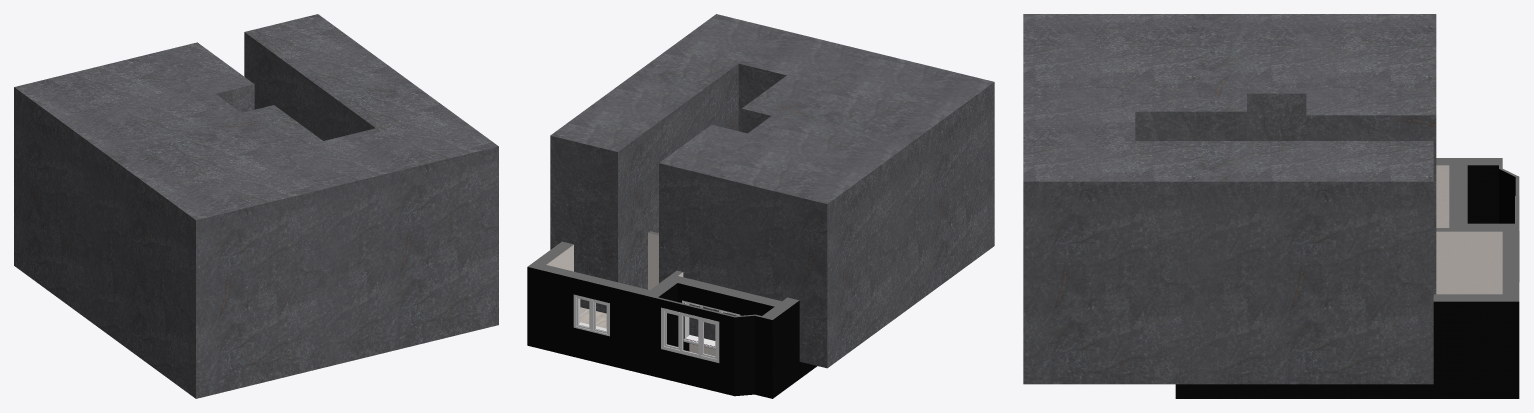
The model's file is Untitleddd.glb.
3 views of the same model, side by side, from view 1: azimuth 30°, elevation 25°; view 2: azimuth 150°, elevation 25°; view 3: azimuth 270°, elevation 25° (orthographic). The views are drawn at different scales.
Visible parts, largest first — view 1: Cube.005; view 2: Cube.005, Cube, _111111_white_plastic_matte_0, _222222_white_plastic_matte_0, Window; view 3: Cube.005, Cube.
Boxes of the visible parts, <box> form: Cube.005: <box>14,14,498,398</box>; Cube.005: <box>550,14,994,368</box>; Cube: <box>527,231,817,398</box>; _111111_white_plastic_matte_0: <box>661,308,718,361</box>; _222222_white_plastic_matte_0: <box>574,295,609,336</box>; Window: <box>682,300,740,349</box>; Cube.005: <box>1023,14,1436,384</box>; Cube: <box>1175,158,1519,398</box>.
Bounding box in the file's own units: 44.93 × 28.05 × 56.19.
30 materials, 9 textured.
